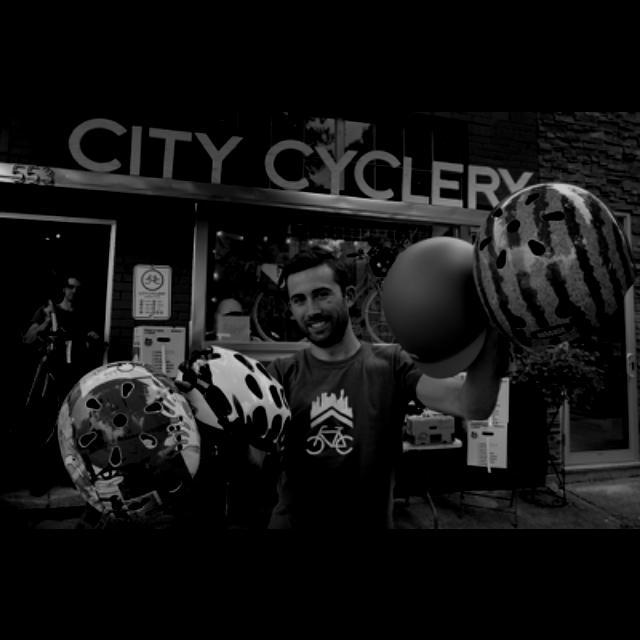Without Helmet: (276, 242, 360, 350)
